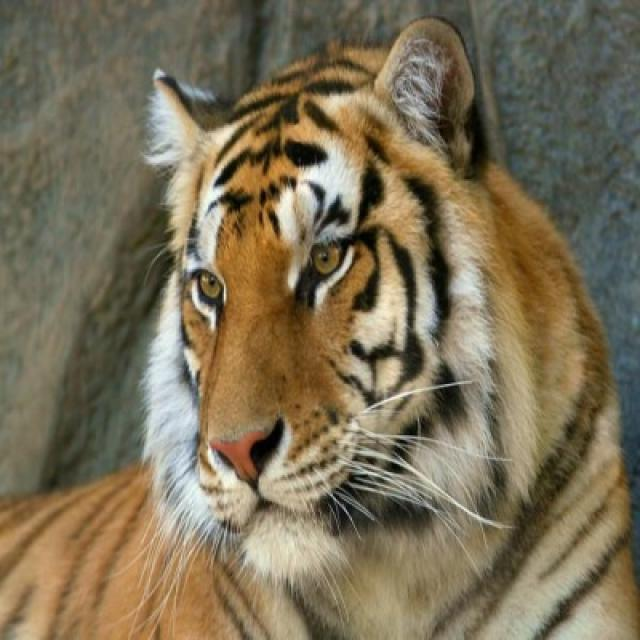Tiger: (0, 16, 638, 638)
